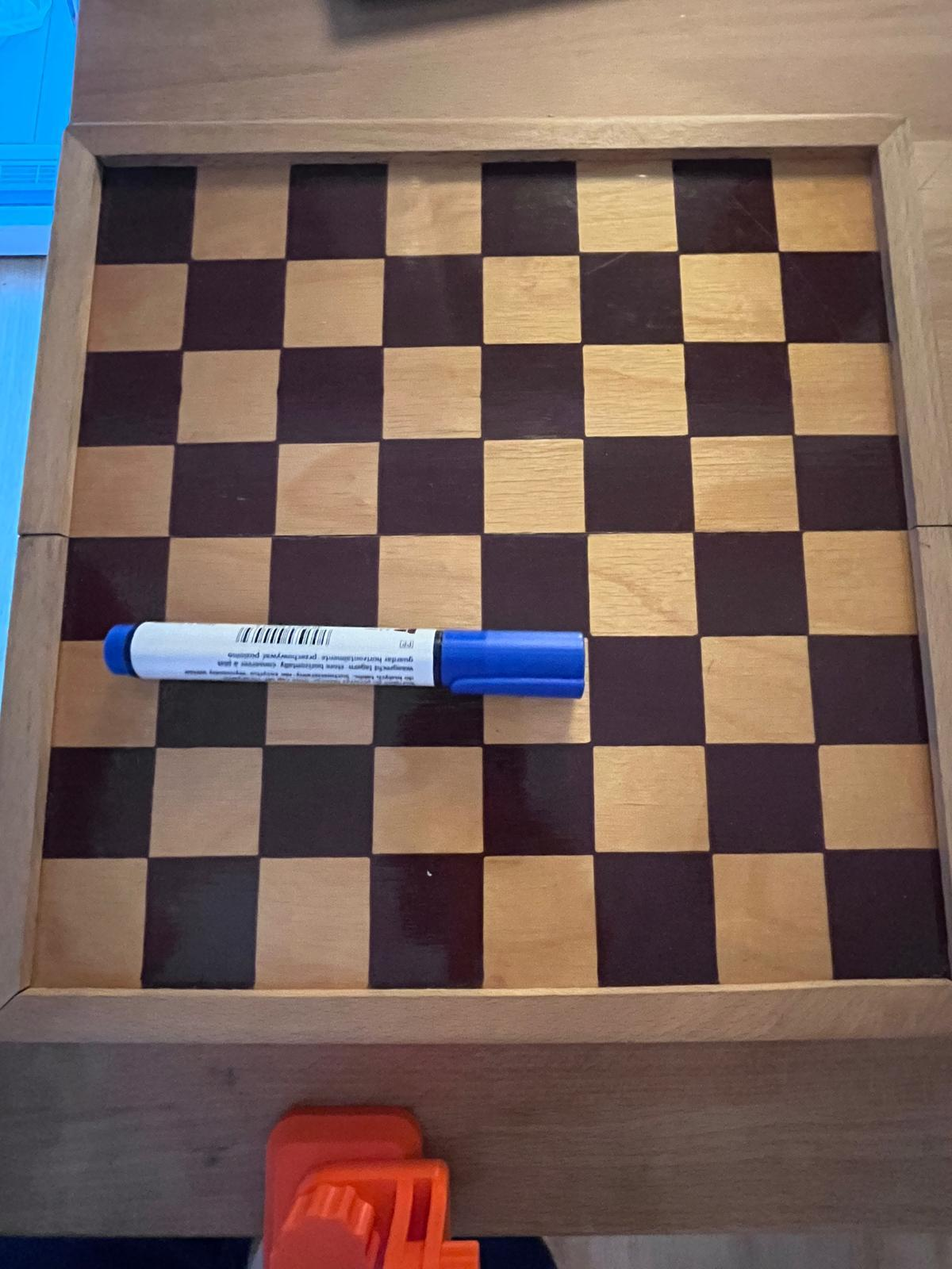marker: (100, 620, 590, 696)
